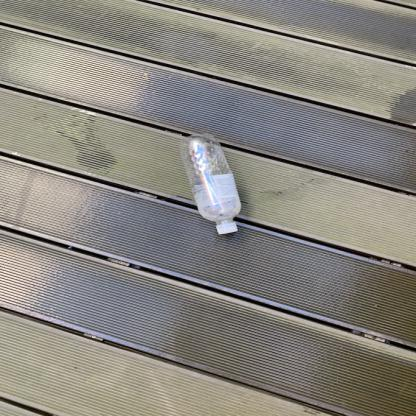plastic-bottles: (174, 128, 262, 245)
